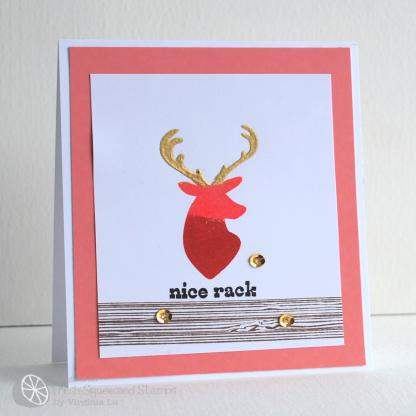Picture-frame: (61, 40, 376, 388)
